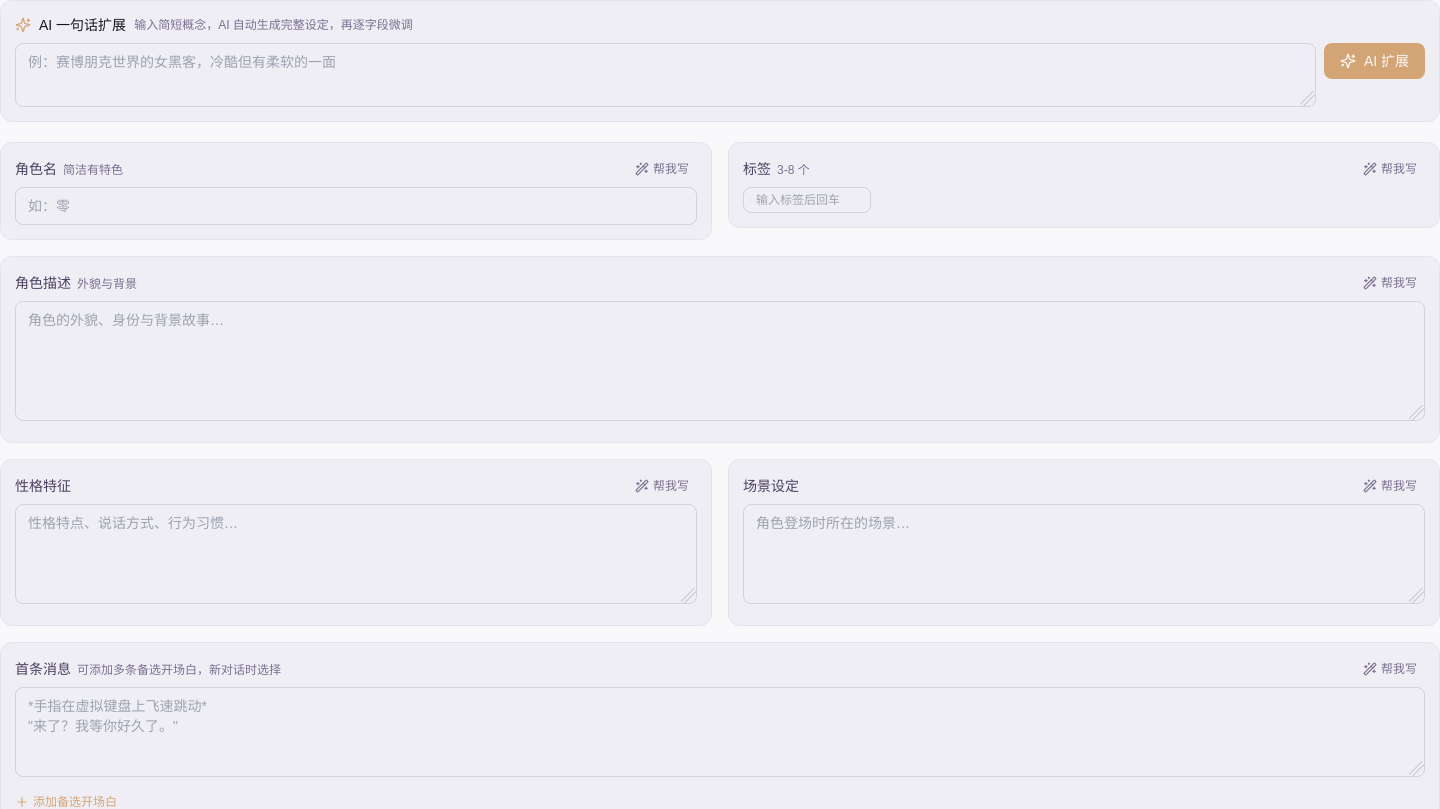
ConceptStep（概念设定） › 生成中按钮显示加载态
The width and height of the screenshot is (1440, 809).
Click the button "帮我写" in the row of "简洁有特色" at (662, 169), box [627,157,697,181]
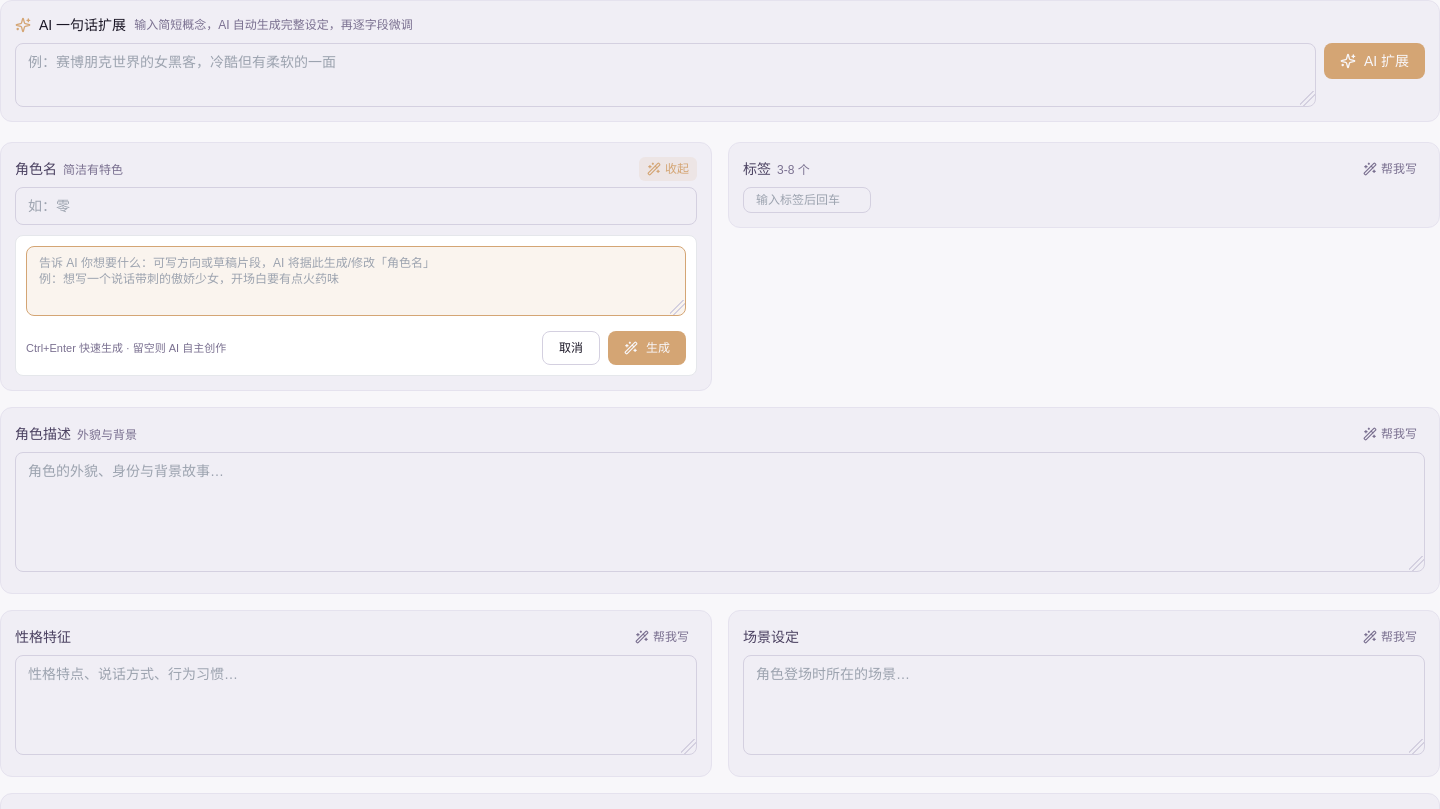
Click the button "生成" at (647, 348), box [608,331,686,365]
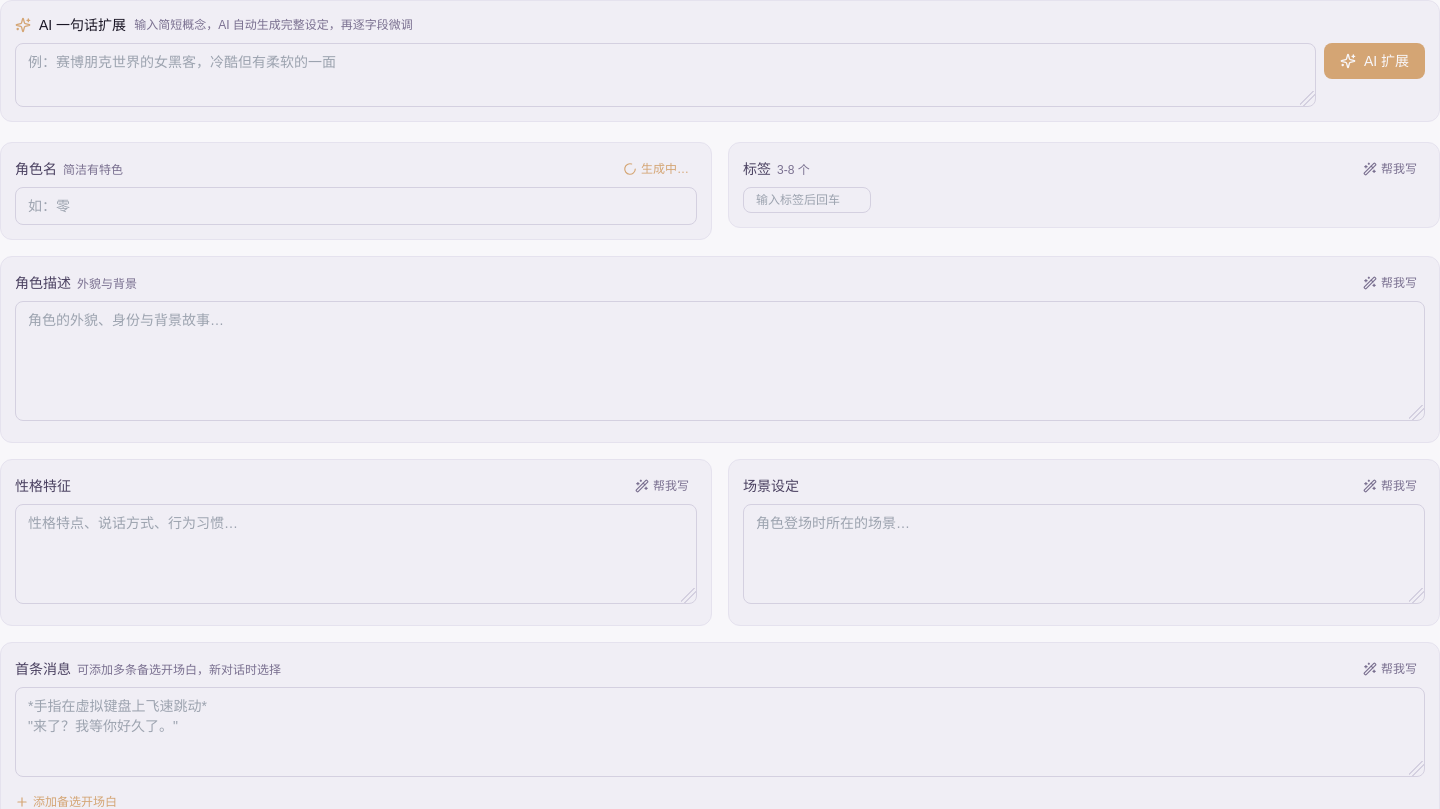
Expected: the button "生成中…" is shown, [615,157,697,181]
